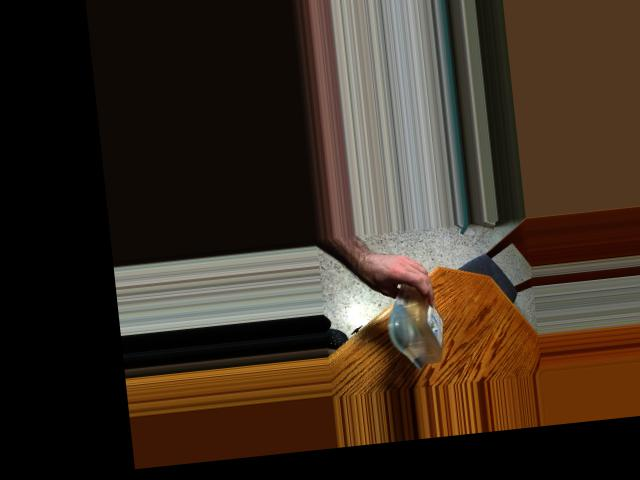cheese: (386, 263, 449, 371)
